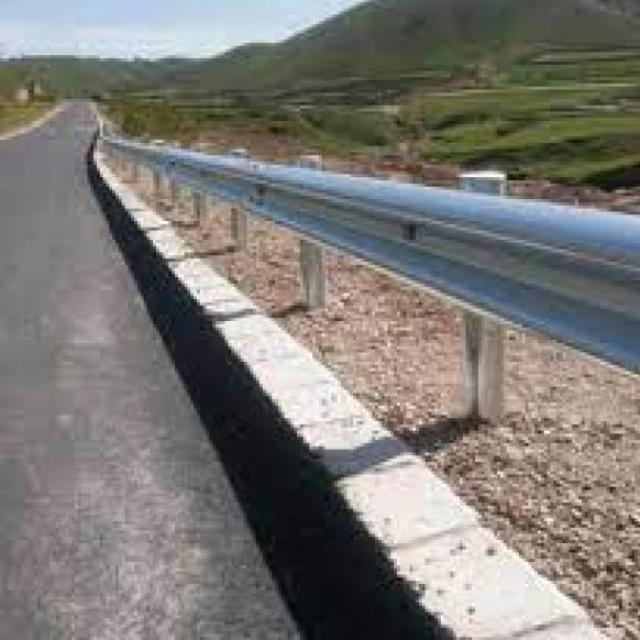Guard rail: (105, 138, 640, 369)
